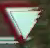Give way: (0, 2, 43, 45)
